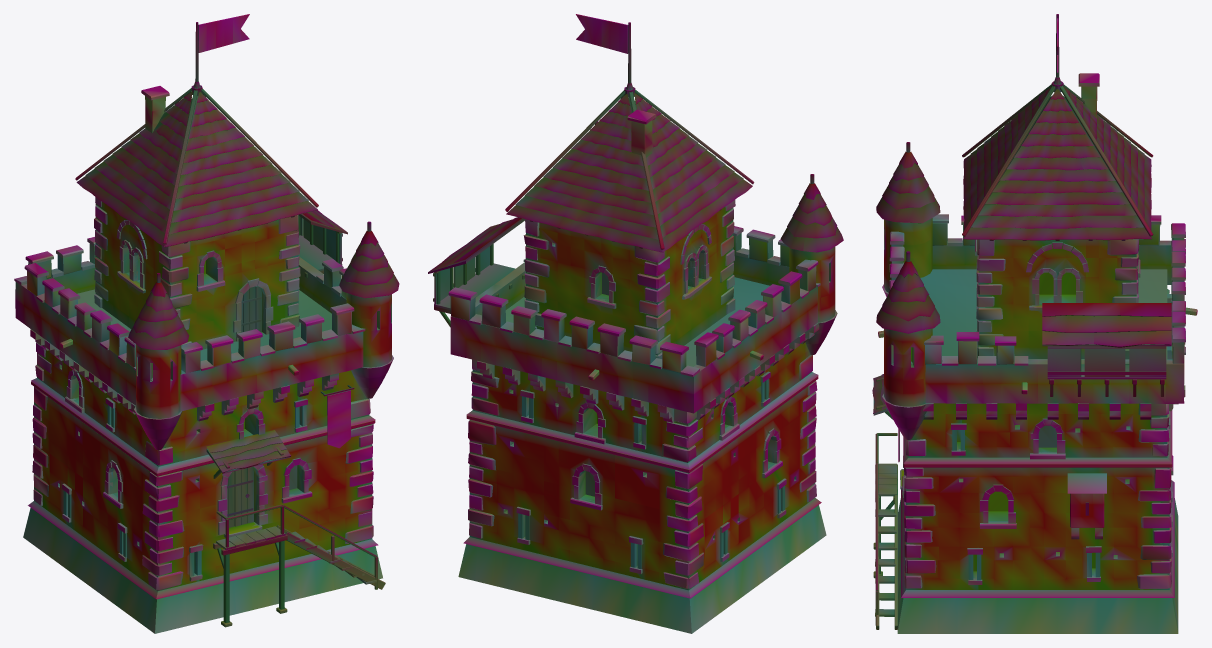
The model's file is keep.glb.
The picture shows the model from 3 angles, left to right: view 1: azimuth 30°, elevation 25°; view 2: azimuth 150°, elevation 25°; view 3: azimuth 270°, elevation 25°; orthographic projection. The views are drawn at different scales.
Visible parts, largest first — view 1: keep_LOD0; view 2: keep_LOD0; view 3: keep_LOD0.
Part boxes in pixels (x1=…): keep_LOD0: x1=14, y1=14, x2=399, y2=633; keep_LOD0: x1=428, y1=14, x2=843, y2=633; keep_LOD0: x1=872, y1=14, x2=1197, y2=633.
Size of what is drawn, in the model's own units: 5.23 by 9.44 by 4.94.
